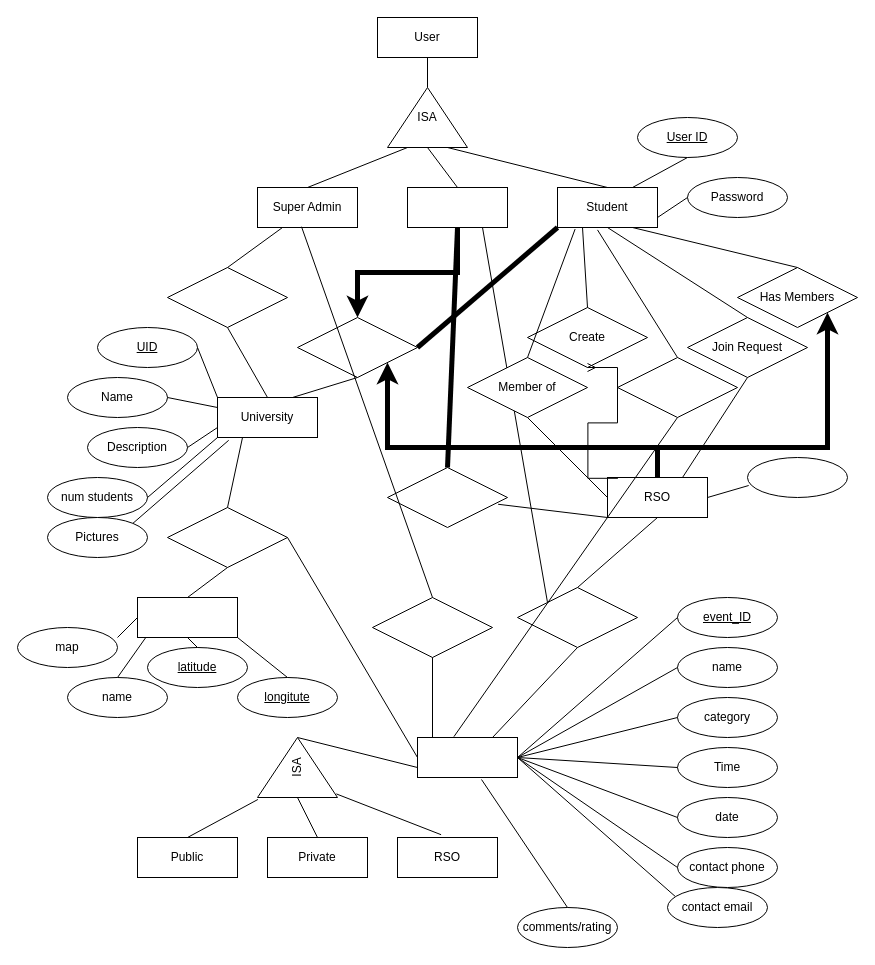
The diagram is 875 pixels wide and 965 high, and some of its shapes have lost their labels. The box of each missing label's shape, as (x1, y1, x2, y2) in pixels:
Admin: (406, 186, 508, 228)
Affilated With: (296, 316, 418, 378)
Approved by: (372, 596, 492, 658)
Creates Profile: (166, 266, 288, 328)
Event: (416, 736, 518, 778)
Hosts: (516, 586, 638, 648)
Located In: (166, 506, 288, 568)
Location: (136, 596, 238, 638)
Looks up: (616, 356, 738, 418)
Owns: (386, 466, 508, 528)
rso_id: (746, 456, 848, 498)
